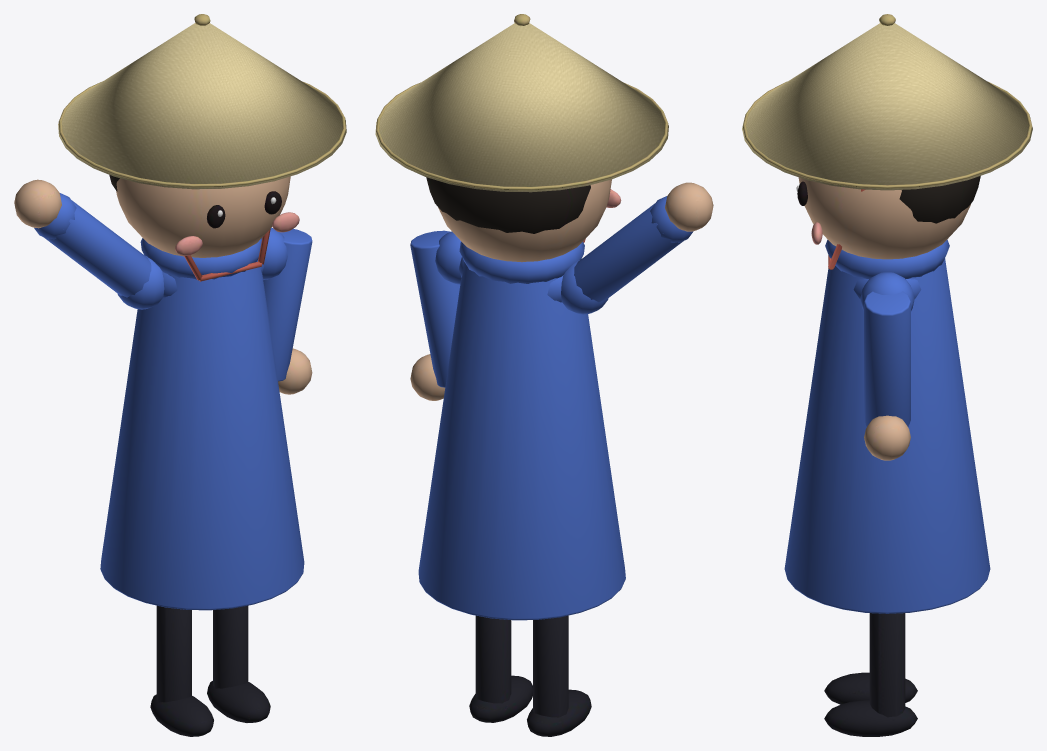
Rendered from trumua-bystander.glb.
3 renders of one model, left to right at view 1: azimuth 30°, elevation 25°; view 2: azimuth 150°, elevation 25°; view 3: azimuth 270°, elevation 25°, orthographic.
Visible parts, largest first — view 1: trumua-bystander, arm; view 2: trumua-bystander, arm; view 3: trumua-bystander.
Part boxes in pixels (box(x1,y1,x2,y2)): trumua-bystander: box(58, 14, 346, 736); arm: box(14, 179, 164, 309); trumua-bystander: box(375, 14, 668, 736); arm: box(561, 182, 713, 314); trumua-bystander: box(742, 14, 1032, 736).
Size of the model in its own units: 0.767 by 1.66 by 0.62.
Materials: 2 (1 with a texture image).
